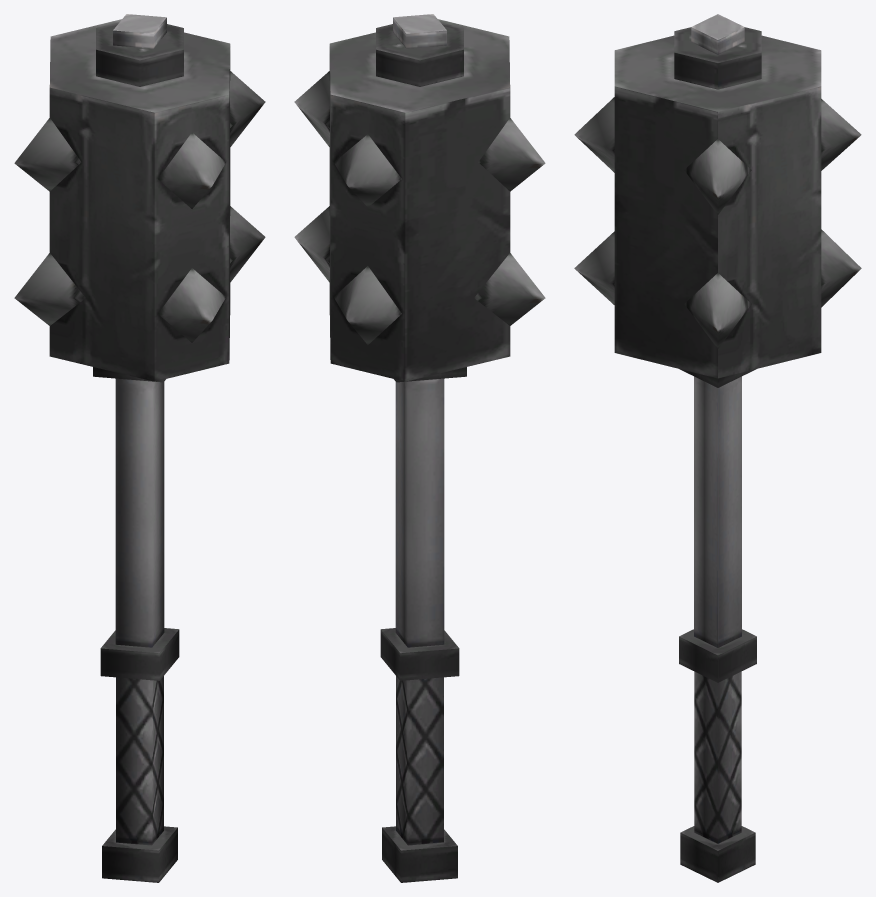
File: mace_010lv_01_o01.FBX
The picture shows the model from 3 angles, left to right: view 1: azimuth 30°, elevation 25°; view 2: azimuth 150°, elevation 25°; view 3: azimuth 270°, elevation 25°; orthographic projection.
Parts seen in each view (by area): view 1: mace_010lv_01_o01; view 2: mace_010lv_01_o01; view 3: mace_010lv_01_o01.
Boxes of the visible parts, left/top/right/bottom form: mace_010lv_01_o01: left=14, top=14, right=265, bottom=882; mace_010lv_01_o01: left=294, top=14, right=545, bottom=882; mace_010lv_01_o01: left=574, top=14, right=861, bottom=882.
Size of the model in its own units: 0.3666 by 1.18 by 0.3666.
